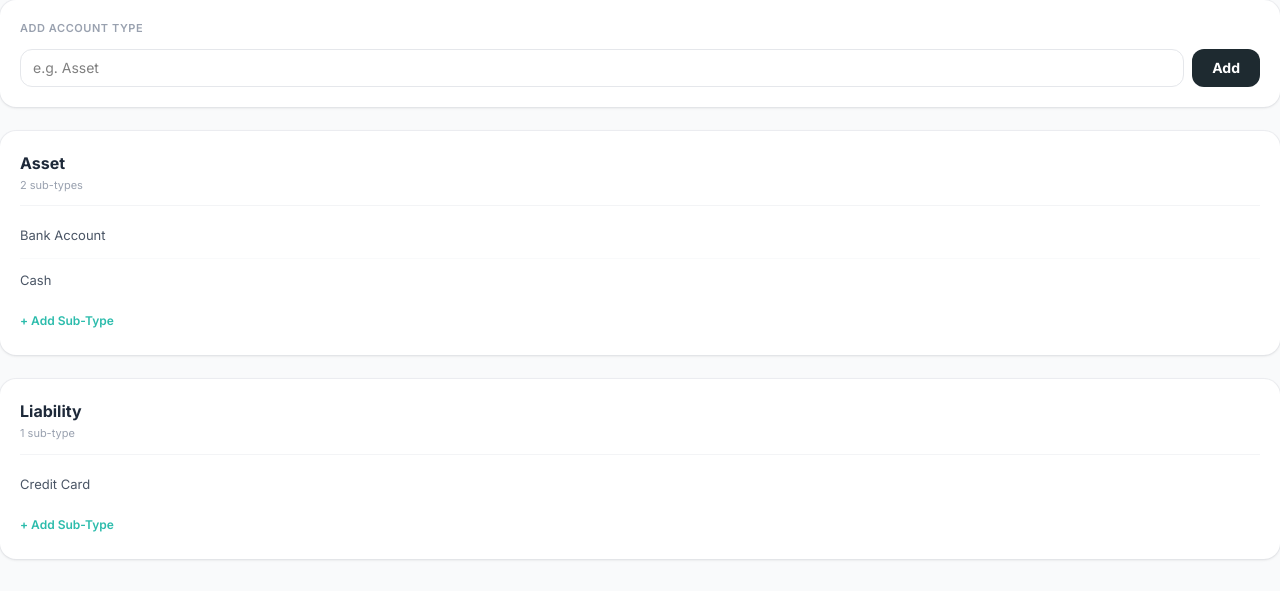
Scenario: AccountTypeManager › shows add sub-type form when clicking "+ Add Sub-Type"
Click the button "+ Add Sub-Type" below "Cash": point(67, 321) x1=12 y1=307 x2=122 y2=335
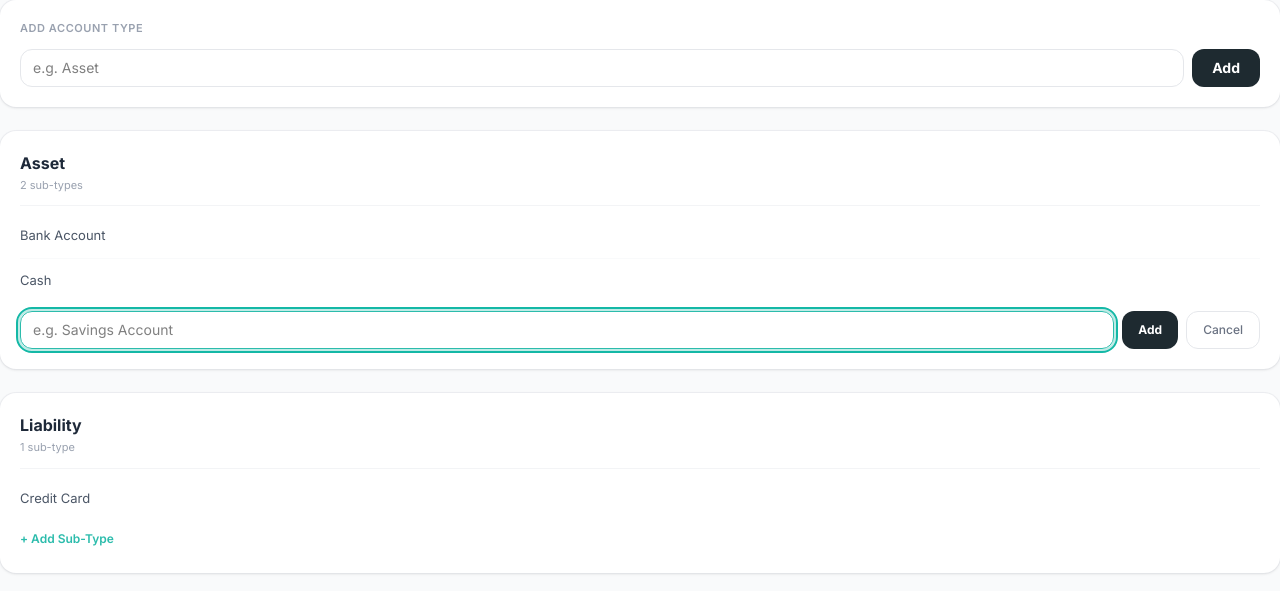
Expected: the field with placeholder "e.g. Savings Account" is shown, x1=20 y1=311 x2=1114 y2=349
